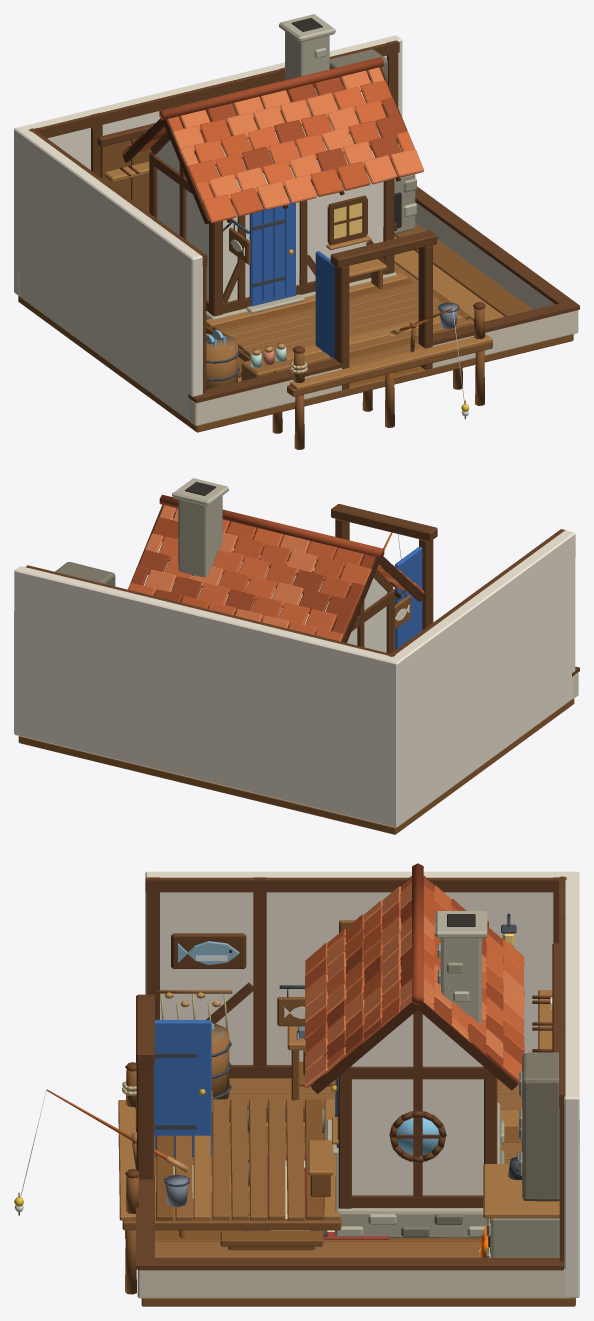
The model's file is cabane-pecheur.glb.
3 renders of one model, top to bottom at view 1: azimuth 30°, elevation 25°; view 2: azimuth 150°, elevation 25°; view 3: azimuth 270°, elevation 25°, orthographic. The views are drawn at different scales.
Parts seen in each view (by area): view 1: mur_o, mur, mur_n, sol, porte, sabliere.009, muret_e, muret_s, muret_lisse, lame.024, muret_s.001, faitiere (+44 smaller); view 2: mur_n, mur_o, sol, cheminee, faitiere, porte_linteau, porte_i, mur, porte_montant, sabliere.009, sabliere.011, cheminee_haut (+29 smaller); view 3: mur_o, mur, muret_e, mur_n, porte_i, sabliere.011, conduit, muret_lisse, lame.022, sol, base, pignon (+47 smaller).
Boxes of the visible parts, x1,y1,x2,y2 form: mur_o: (18,128,202,420); mur: (157,119,383,303); mur_n: (14,35,402,296); sol: (18,224,573,432); porte: (249,198,295,306); sabliere.009: (37,40,399,138); muret_e: (415,202,555,309); muret_s: (189,368,344,426); muret_lisse: (415,186,579,308); lame.024: (394,224,532,316); muret_s.001: (428,310,578,369); faitiere: (159,57,383,120); mur_n: (14,566,402,827); mur_o: (391,530,575,822); sol: (18,699,574,834); cheminee: (178,496,222,577); faitiere: (159,494,384,558); porte_linteau: (331,503,437,541); porte_i: (395,546,422,650); mur: (170,561,386,652); porte_montant: (419,539,433,630); sabliere.009: (25,565,385,654); sabliere.011: (391,529,565,653); cheminee_haut: (172,478,228,506); mur_o: (145,871,570,1064); mur: (352,1079,483,1195); muret_e: (147,1269,570,1298); mur_n: (564,871,579,1297); porte_i: (154,1020,211,1157); sabliere.011: (145,877,558,892); conduit: (522,1052,559,1201); muret_lisse: (137,1258,563,1270); lame.022: (155,1241,481,1257); sol: (141,1297,575,1306); base: (335,1102,500,1237); pignon: (351,1014,483,1066).
Bounding box in the file's own units: 6.82 × 4.9 × 7.17.
